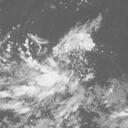cyclone: (24, 47, 84, 104)
